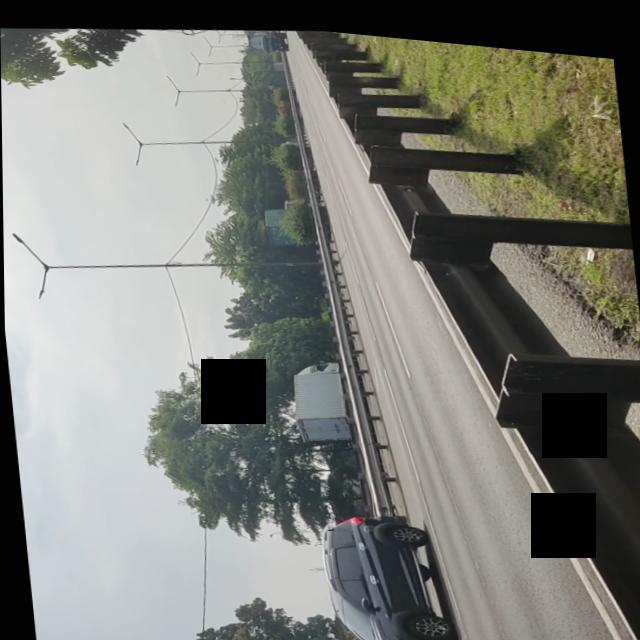Golongan I: (309, 492, 468, 640)
